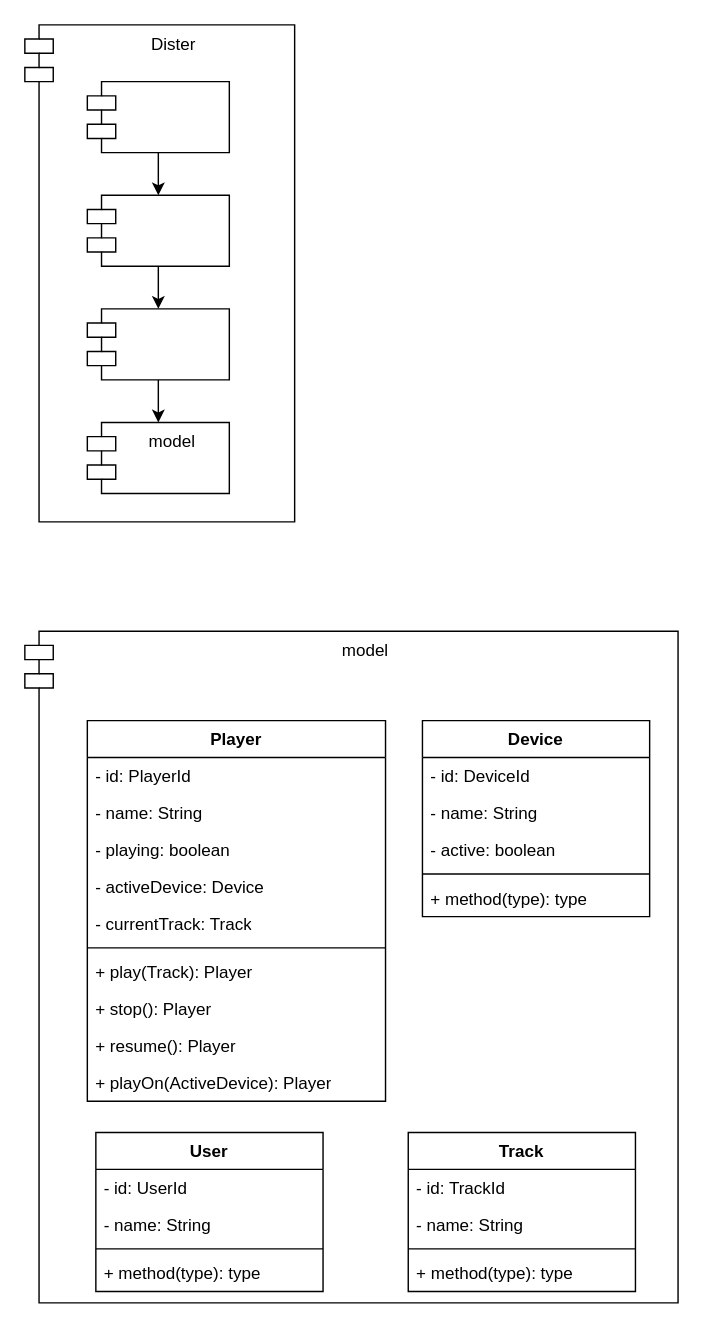
This 703x1328 diagram has some shape labels left out. The centre of each missing label's shape, as x and y in pixels:
adapter: the point at 157,230
application: the point at 157,343
bootstrap: the point at 157,116
